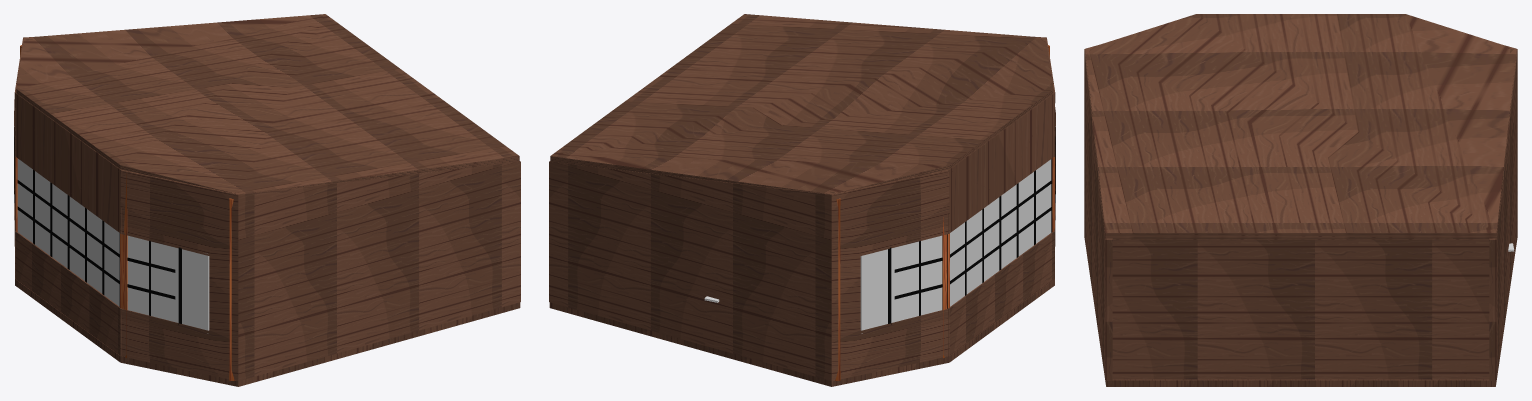
Rendered from Puzzle 1.fbx.
The picture shows the model from 3 angles, left to right: view 1: azimuth 30°, elevation 25°; view 2: azimuth 150°, elevation 25°; view 3: azimuth 270°, elevation 25°; orthographic projection.
Parts seen in each view (by area): view 1: Cube.017, Cube.024, Cube.019, Cube.018, Cube.008, Cube.021, Cube.044, Cube.023, Cube.045, Cube.025, Cube.022; view 2: Cube.017, Cube.024, Cube.019, Cube.018, Cube.008, Cube.021, Cube.044, Cube.023, Cube.045, Cube.025, Cube.022; view 3: Cube.024, Cube.020, Cube.017, Cube.008.
Boxes of the visible parts, x1,y1,x2,y2 form: Cube.017: [14, 37, 520, 381]; Cube.024: [16, 14, 519, 194]; Cube.019: [14, 126, 209, 333]; Cube.018: [15, 92, 121, 355]; Cube.008: [15, 279, 520, 386]; Cube.021: [15, 157, 119, 306]; Cube.044: [15, 156, 127, 358]; Cube.023: [17, 206, 175, 299]; Cube.045: [20, 45, 235, 380]; Cube.025: [17, 180, 175, 272]; Cube.022: [14, 127, 181, 324]; Cube.017: [549, 37, 1055, 381]; Cube.024: [550, 14, 1053, 194]; Cube.019: [860, 126, 1055, 333]; Cube.018: [948, 92, 1054, 355]; Cube.008: [549, 279, 1054, 386]; Cube.021: [947, 158, 1052, 308]; Cube.044: [942, 156, 1054, 358]; Cube.023: [894, 207, 1052, 299]; Cube.045: [834, 45, 1049, 380]; Cube.025: [894, 180, 1052, 272]; Cube.022: [888, 127, 1055, 324]; Cube.024: [1085, 14, 1516, 239]; Cube.020: [1112, 239, 1489, 379]; Cube.017: [1084, 46, 1517, 380]; Cube.008: [1094, 308, 1507, 386].
Bounding box in the file's own units: 1558 × 824 × 1630.
12 materials, 3 textured.
